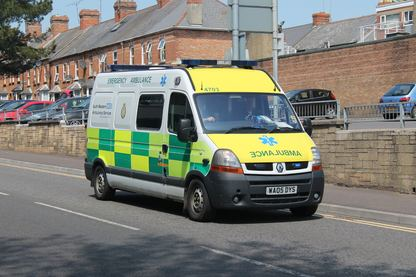ambulance: (83, 59, 327, 221)
